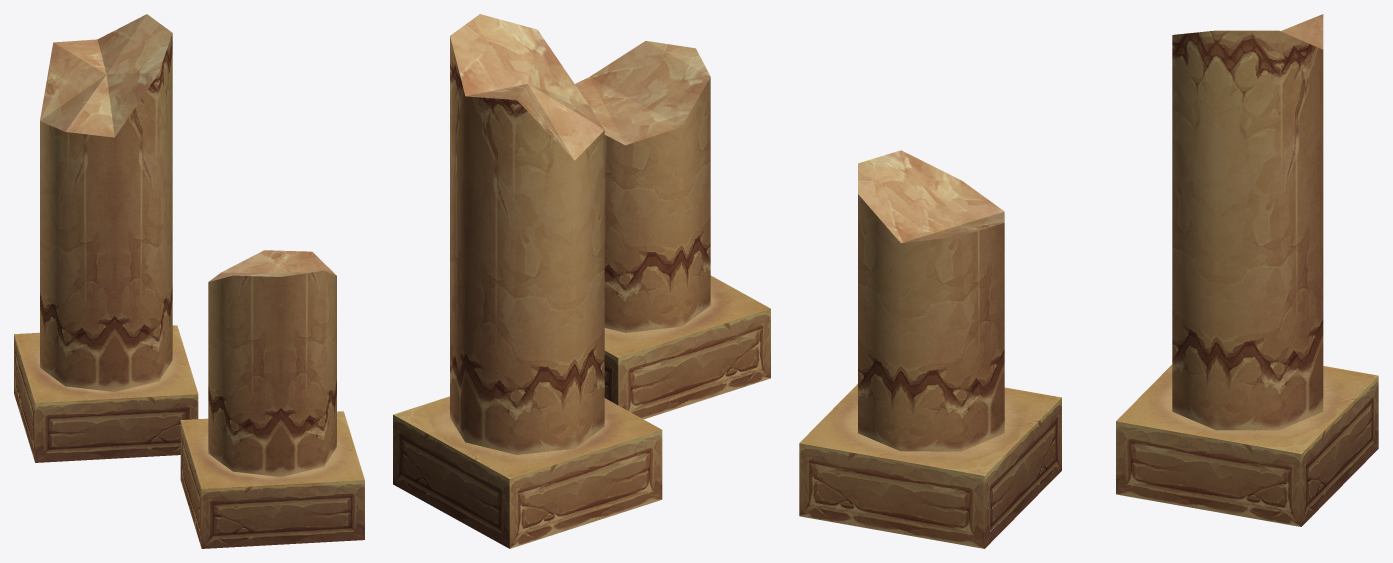
The model's file is Area_12_17.fbx.
The picture shows the model from 3 angles, left to right: view 1: azimuth 30°, elevation 25°; view 2: azimuth 150°, elevation 25°; view 3: azimuth 270°, elevation 25°; orthographic projection. The views are drawn at different scales.
Visible parts, largest first — view 1: Area_12_17; view 2: Area_12_17; view 3: Area_12_17.
Boxes of the visible parts, x1=… form: Area_12_17: x1=14, y1=14, x2=364, y2=548; Area_12_17: x1=393, y1=14, x2=770, y2=548; Area_12_17: x1=799, y1=14, x2=1378, y2=548.
Bounding box in the file's own units: 213 × 353 × 392.
